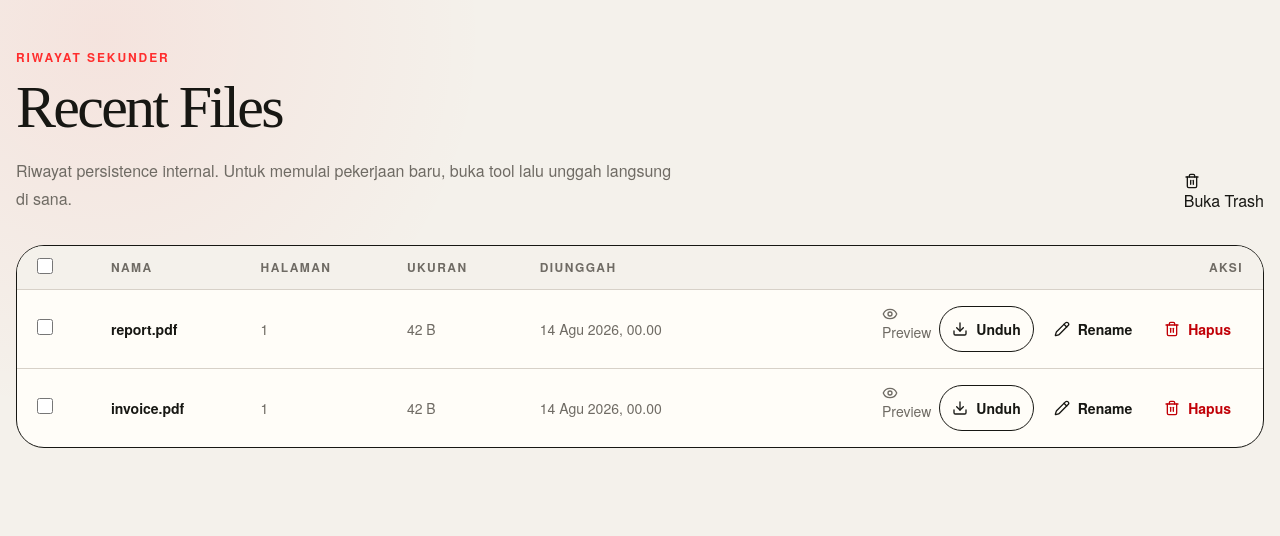
Test: documents query errors › selects one row at a time without touching the rest
The width and height of the screenshot is (1280, 536).
Click the checkbox named "Pilih invoice.pdf" at (45, 406), box [37, 398, 53, 414]
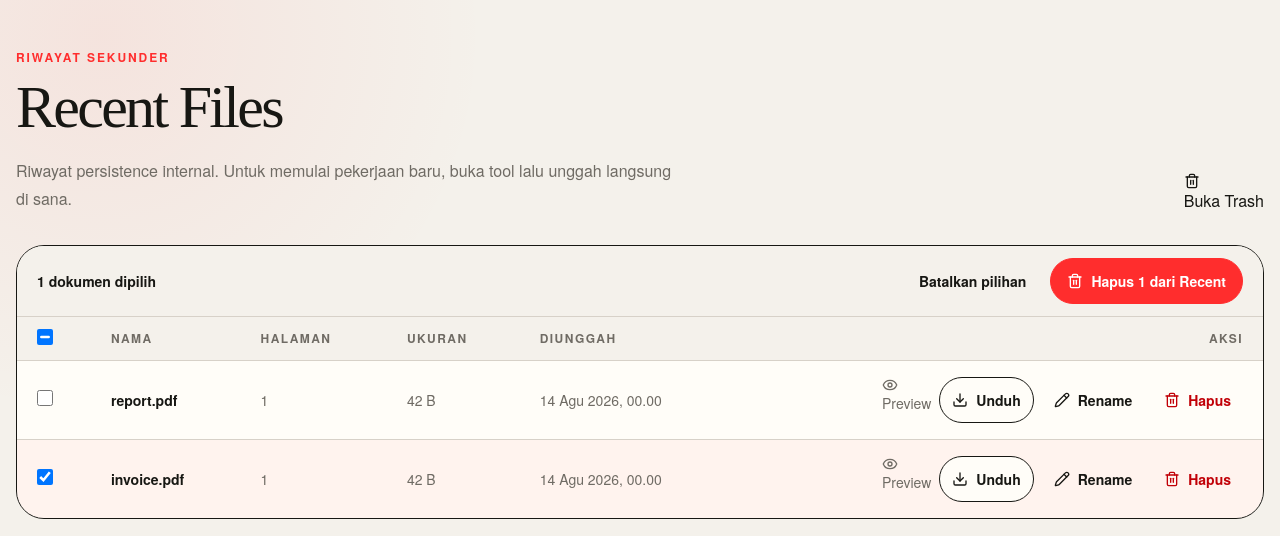
Expected: the text "1 dokumen dipilih" is shown, [37, 271, 156, 291]
Expected: the button "Hapus 1 dari Recent" is shown, [1050, 258, 1243, 304]
Click the button "Batalkan pilihan" at (973, 281), box [903, 258, 1042, 304]
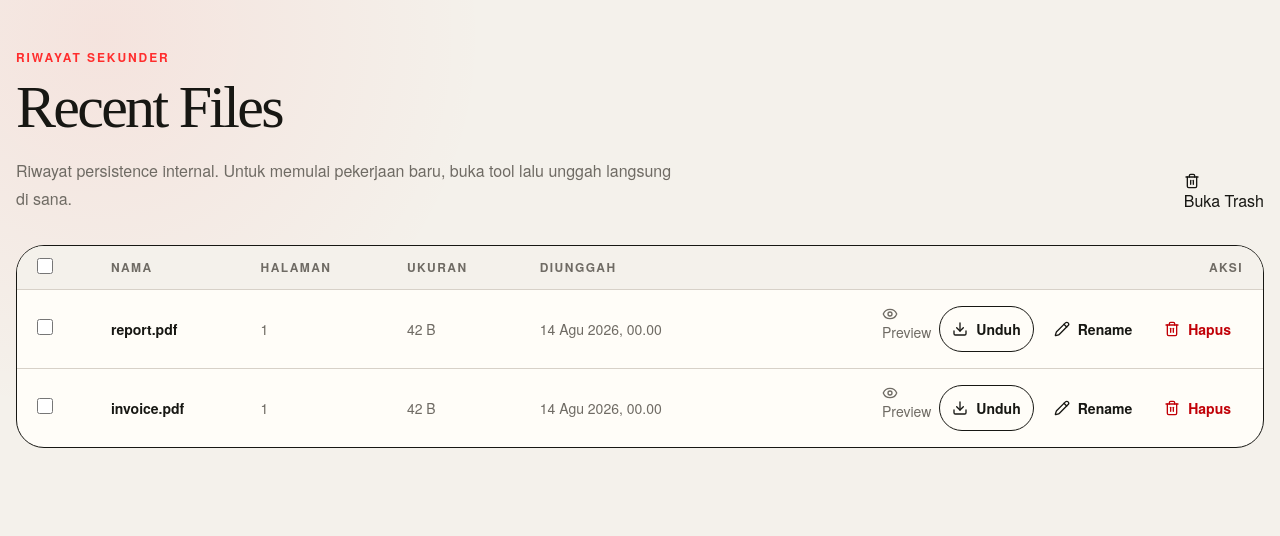
Expected: the text "1 dokumen dipilih" is gone
